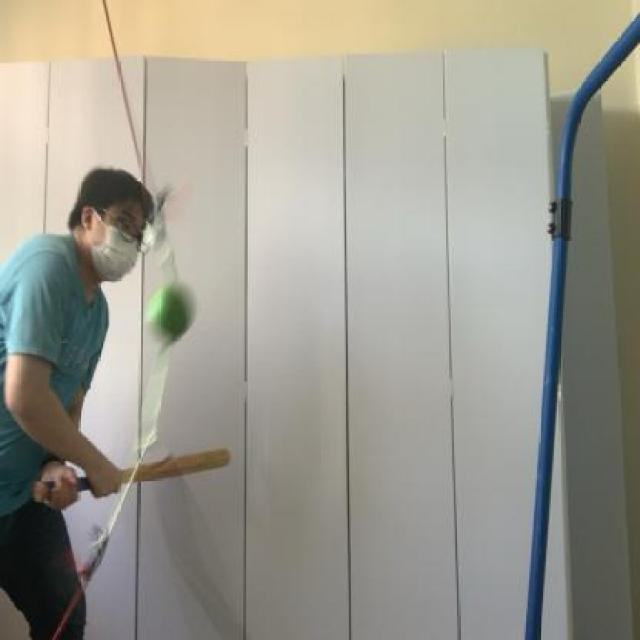baseball: (148, 277, 201, 355)
